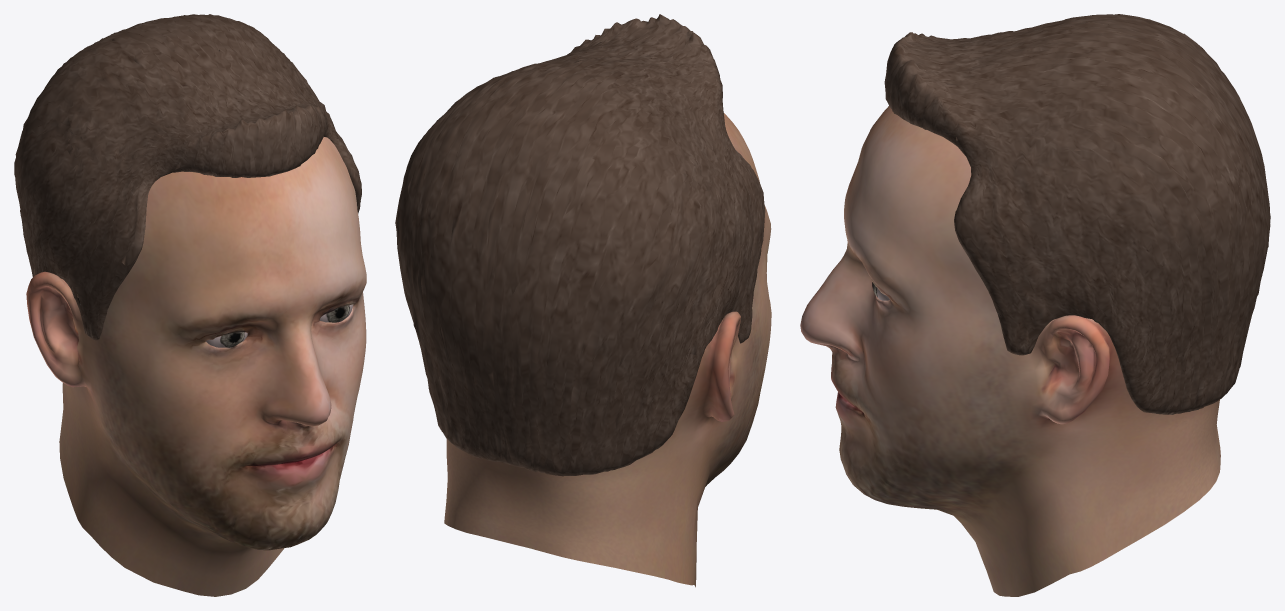
Rendered from head_worker_c.glb.
The picture shows the model from 3 angles, left to right: view 1: azimuth 30°, elevation 25°; view 2: azimuth 150°, elevation 25°; view 3: azimuth 270°, elevation 25°; orthographic projection. The views are drawn at different scales.
Visible parts, largest first — view 1: skpB95A; view 2: skpB95A; view 3: skpB95A.
Part boxes in pixels (left/top/right/bottom): skpB95A: left=14, top=14, right=366, bottom=596; skpB95A: left=395, top=14, right=771, bottom=587; skpB95A: left=800, top=14, right=1270, bottom=596.
Bounding box in the file's own units: 0.1643 × 0.273 × 0.2091.
1 material, 1 textured.
